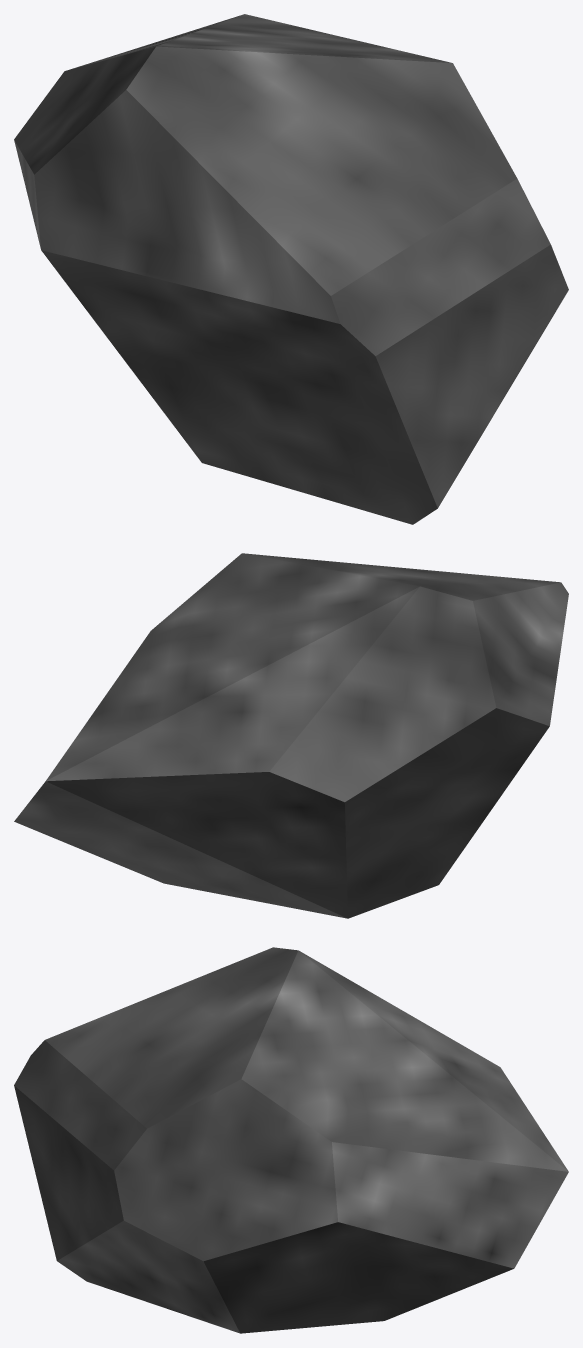
Rendered from rock_sml_05.glb.
The picture shows the model from 3 angles, top to bottom: view 1: azimuth 30°, elevation 25°; view 2: azimuth 150°, elevation 25°; view 3: azimuth 270°, elevation 25°; orthographic projection. The views are drawn at different scales.
Parts seen in each view (by area): view 1: small rock; view 2: small rock; view 3: small rock.
Boxes of the visible parts, x1,y1,x2,y2 form: small rock: (14,14,568,524); small rock: (14,553,568,918); small rock: (14,947,568,1333).
Bounding box in the file's own units: 0.4635 × 0.3632 × 0.6267.
1 material, 1 textured.
